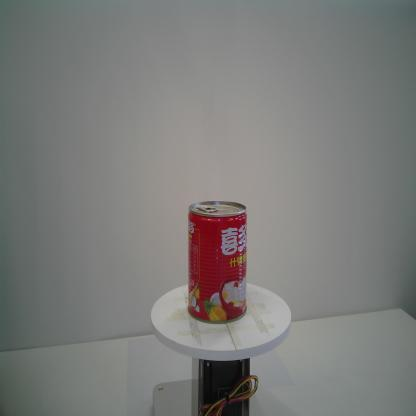Canned Food: (186, 200, 248, 325)
